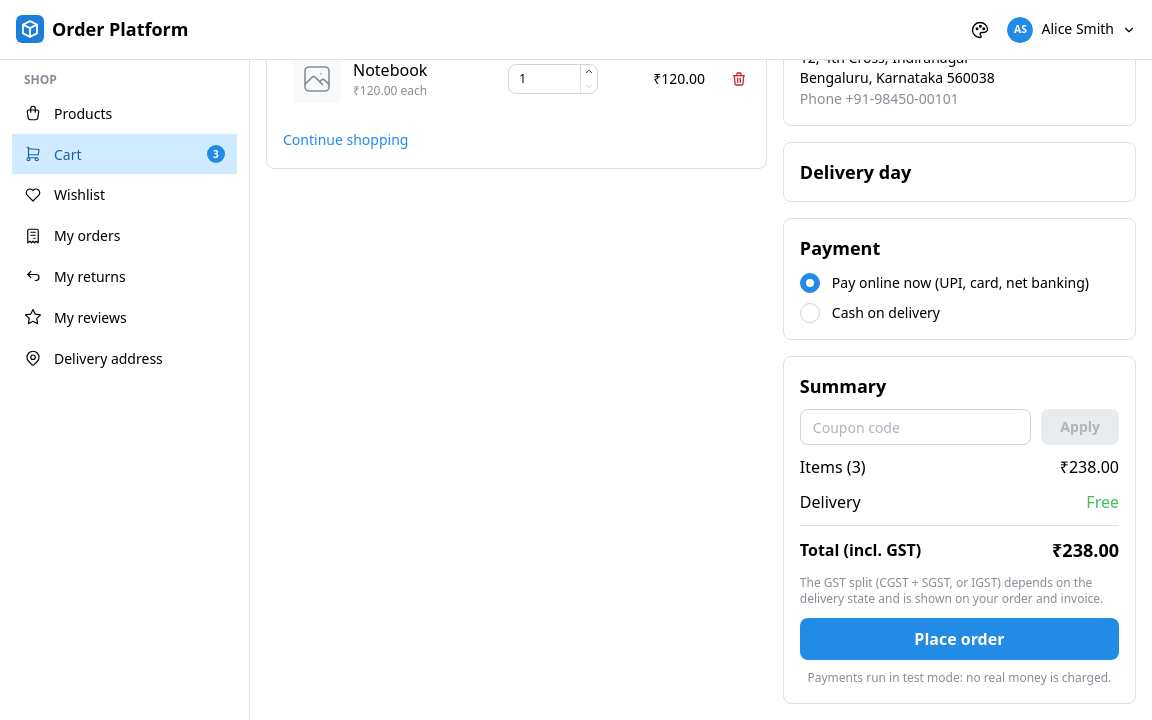
Test: checkout › shows today’s prices, then places the order to the saved address
(page scrolled)
Expected: the text "₹238.00" in the row of "Items (" is shown, [1060,456,1119,478]
Step 1. Click the button "Place order" → (959,639), box [800,618,1119,660]
(page scrolled)
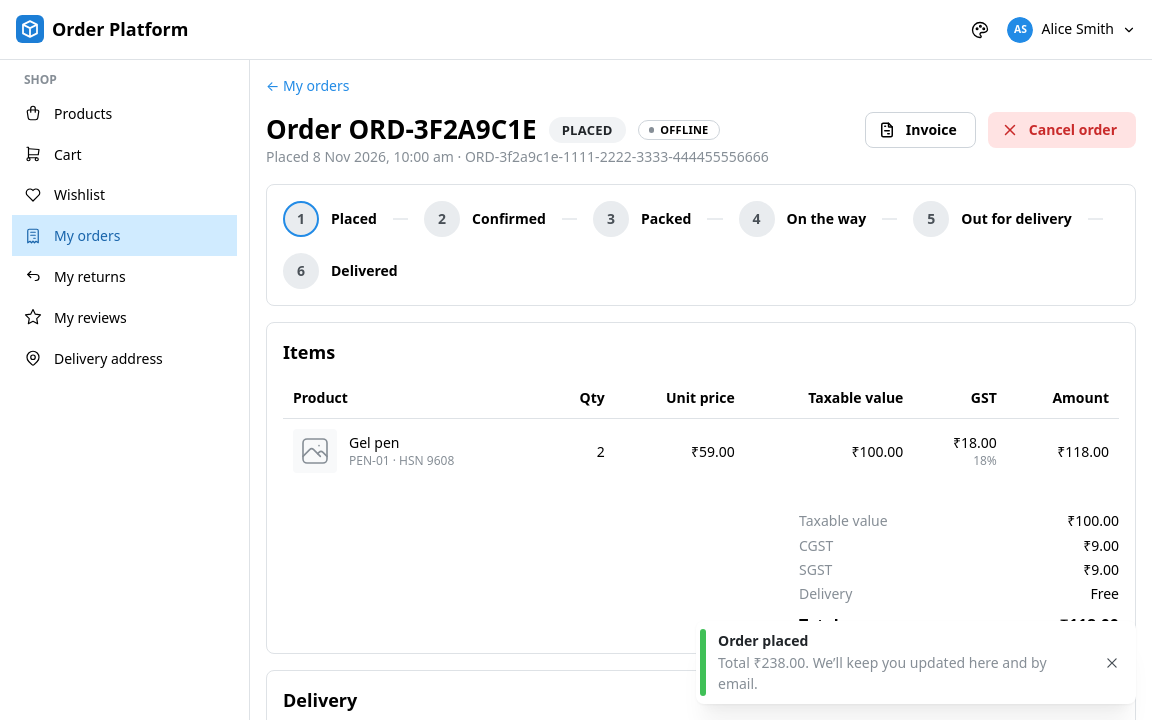
Expected: the heading "Order ORD-3F2A9C1E" is shown, [266,112,537,147]
